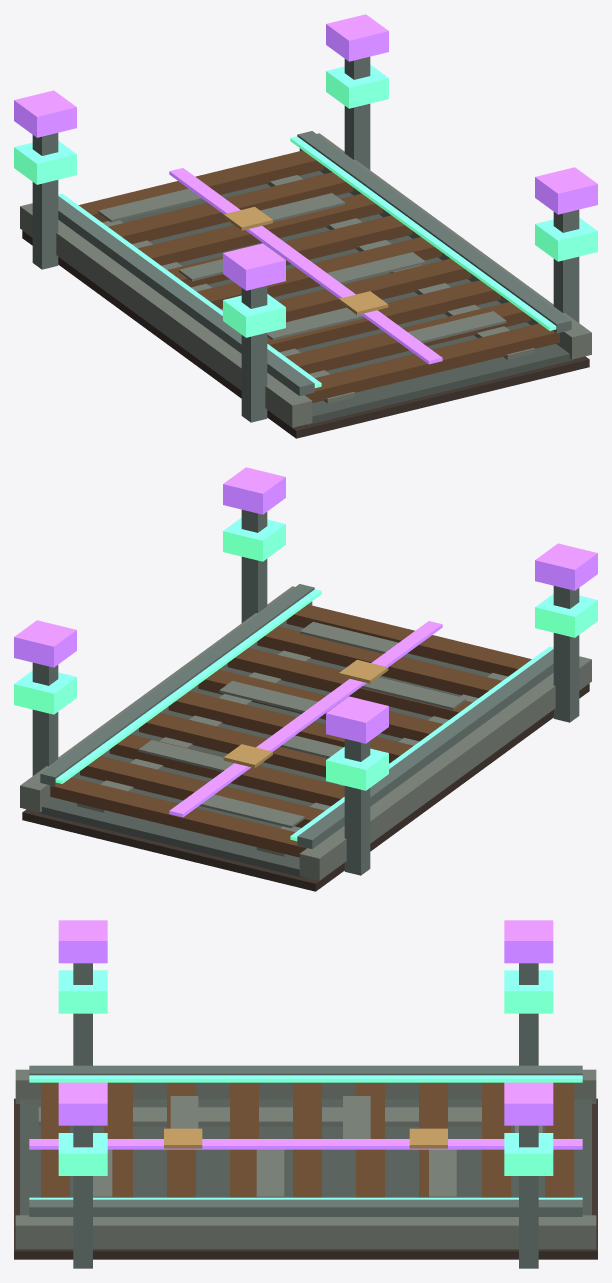
Rendered from supply_route_l05.glb.
3 views of the same model, one above another, from view 1: azimuth 30°, elevation 25°; view 2: azimuth 150°, elevation 25°; view 3: azimuth 270°, elevation 25° (orthographic). The views are drawn at different scales.
Visible parts, largest first — view 1: supply_route_l05; view 2: supply_route_l05; view 3: supply_route_l05.
Boxes of the visible parts, <box> form: supply_route_l05: <box>14,14,597,438</box>; supply_route_l05: <box>14,467,597,891</box>; supply_route_l05: <box>14,920,597,1268</box>.
Bounding box in the file's own units: 2.82 × 1.23 × 3.8.
